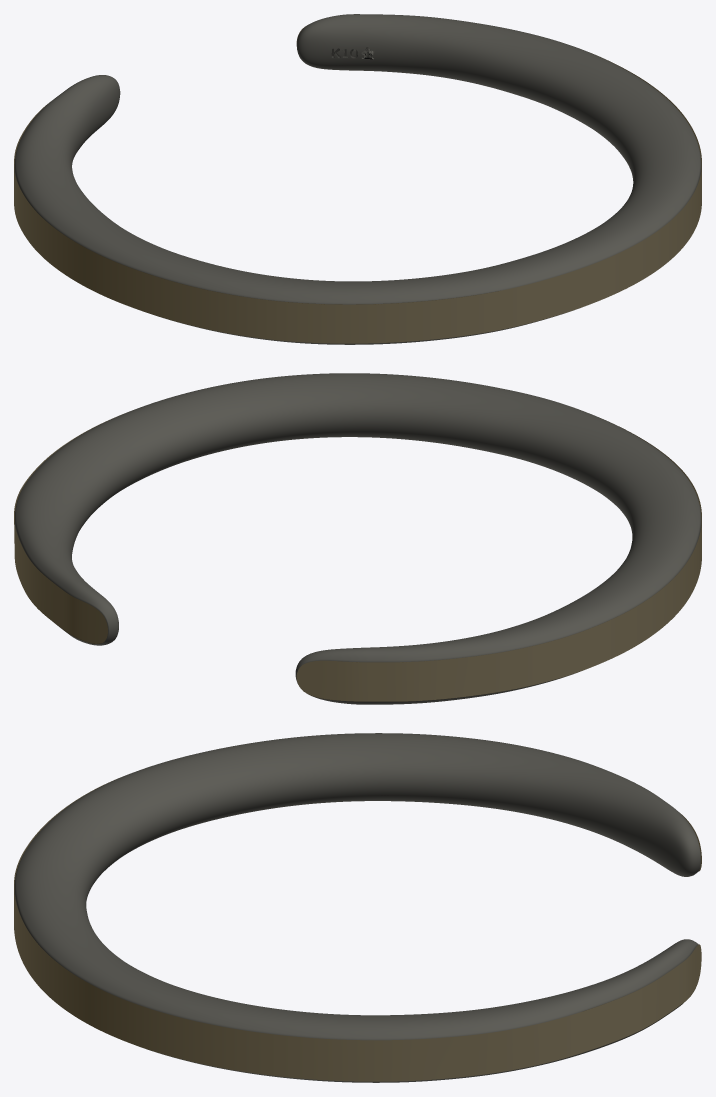
The model's file is ring-black.glb.
3 views of the same model, one above another, from view 1: azimuth 30°, elevation 25°; view 2: azimuth 150°, elevation 25°; view 3: azimuth 270°, elevation 25° (orthographic). The views are drawn at different scales.
Parts seen in each view (by area): view 1: ring-body.004, ring-body.005; view 2: ring-body.004, ring-body.005; view 3: ring-body.004, ring-body.005.
Part boxes in pixels (x1,y1,x2,y2): ring-body.004: [14, 14, 701, 344]; ring-body.005: [14, 25, 701, 343]; ring-body.004: [15, 373, 701, 704]; ring-body.005: [14, 412, 701, 701]; ring-body.004: [14, 733, 700, 1082]; ring-body.005: [14, 776, 701, 1081].
Size of the model in its own units: 0.5126 by 0.0444 by 0.4867.
2 materials, 2 textured.
